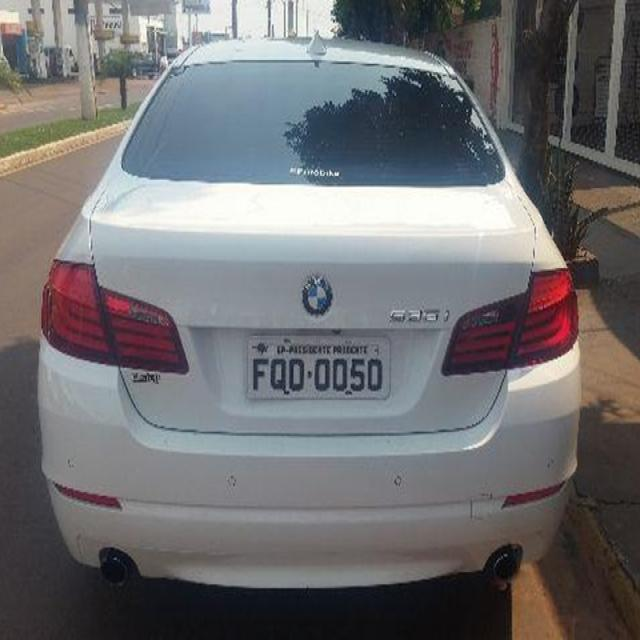Placa: (239, 327, 394, 403)
